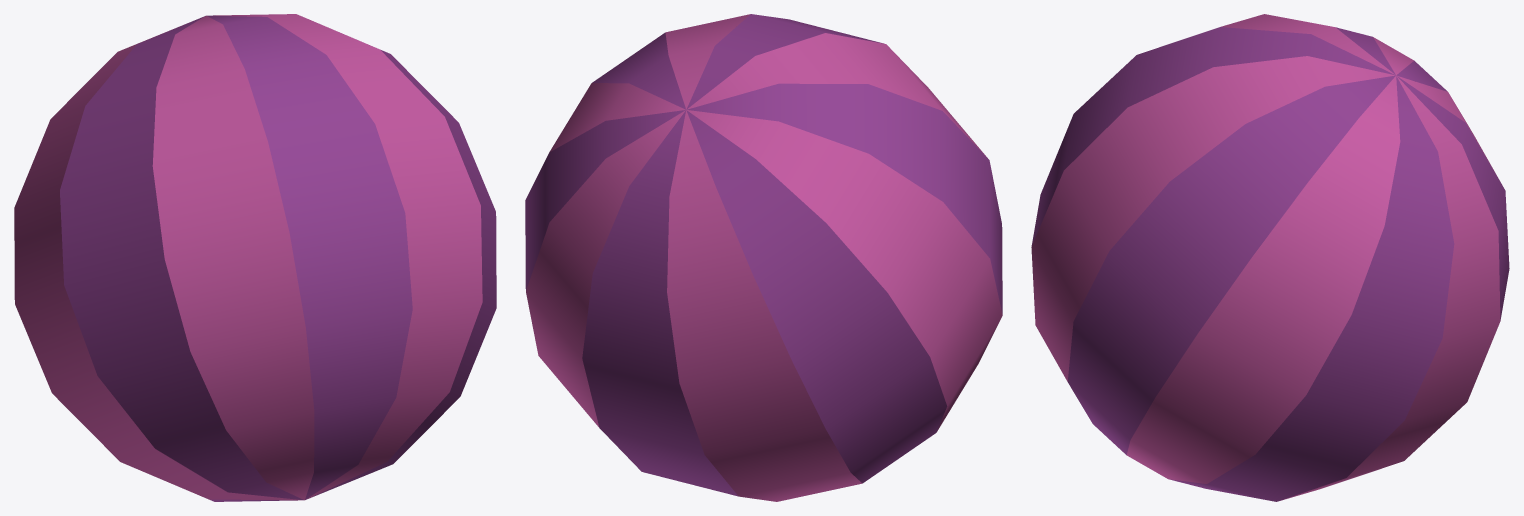
File: ball-purple.fbx
3 views of the same model, side by side, from view 1: azimuth 30°, elevation 25°; view 2: azimuth 150°, elevation 25°; view 3: azimuth 270°, elevation 25° (orthographic).
Parts seen in each view (by area): view 1: ball-purple; view 2: ball-purple; view 3: ball-purple.
Part boxes in pixels (x1,y1,x2,y2): ball-purple: [14, 14, 496, 501]; ball-purple: [525, 14, 1002, 501]; ball-purple: [1031, 14, 1509, 501].
Bounding box in the file's own units: 0.4879 × 0.4924 × 0.4889.
